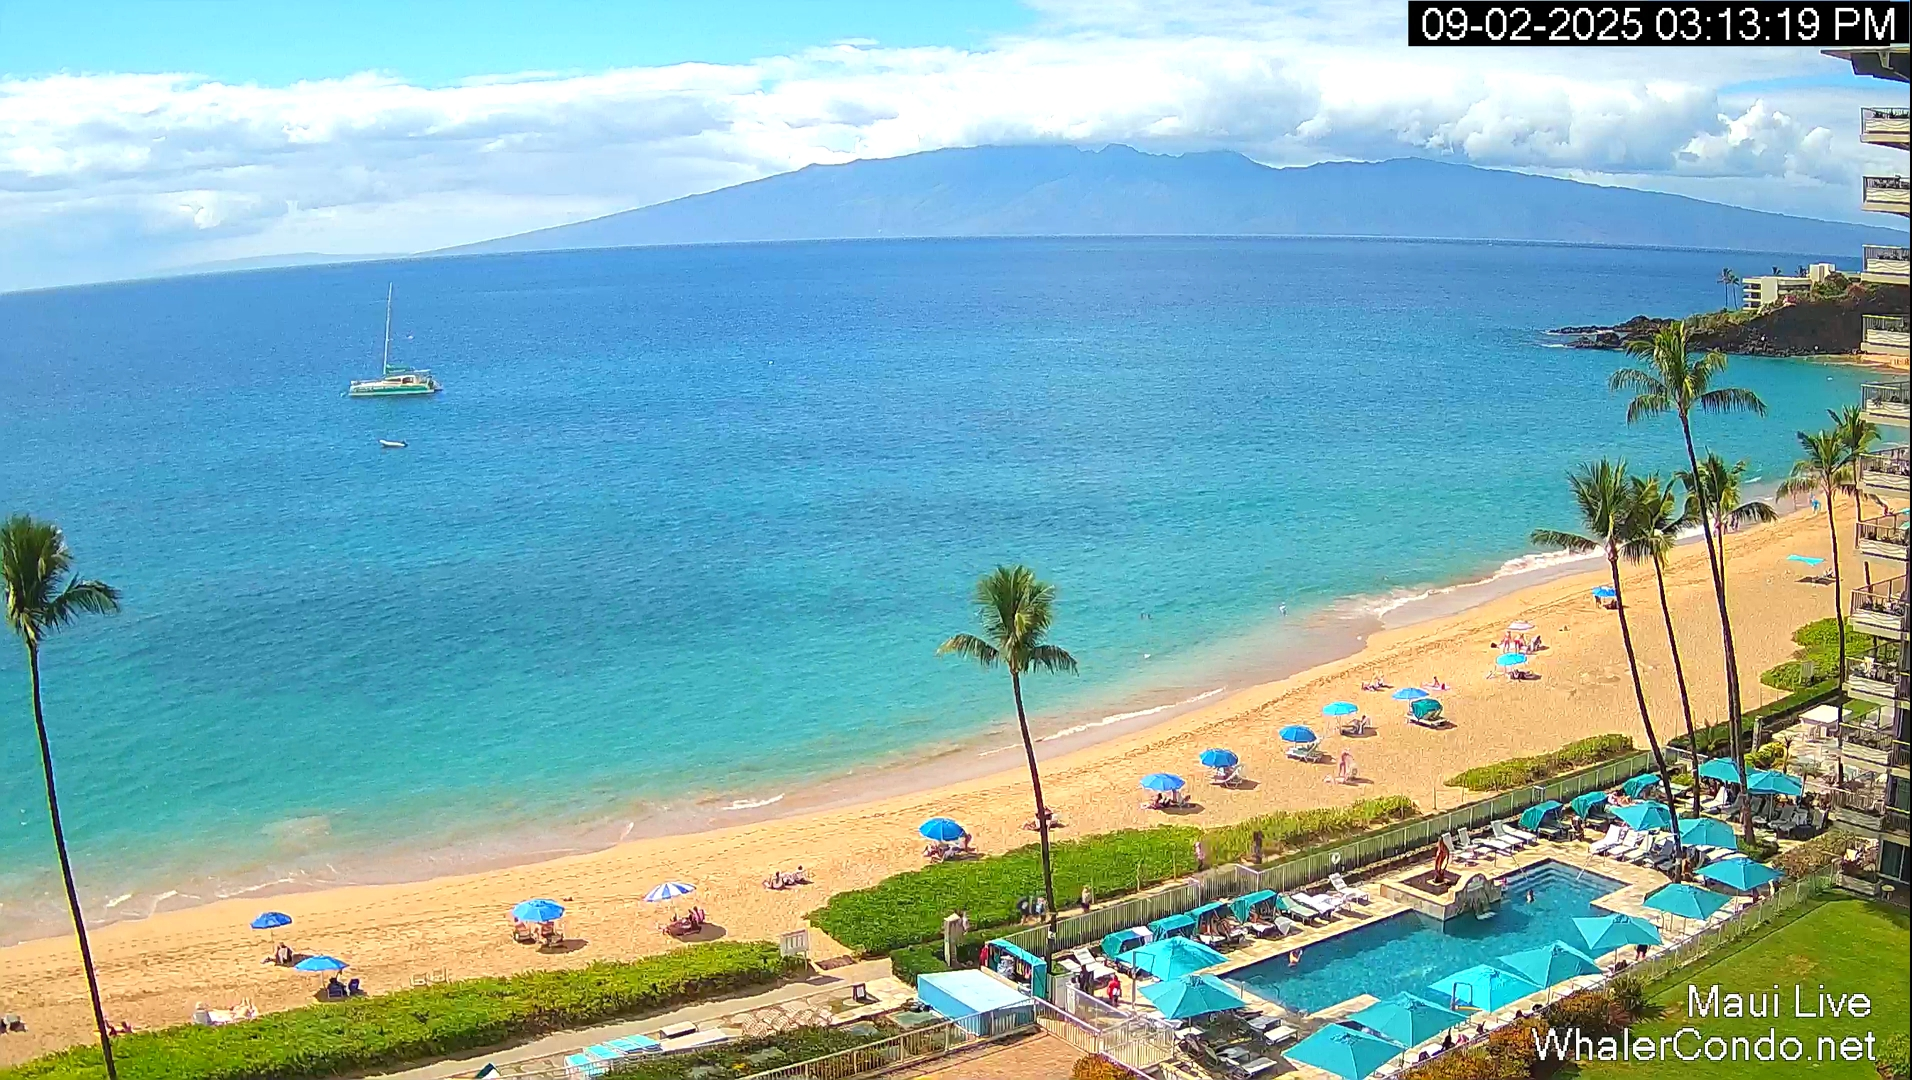boat: (348, 281, 441, 397), (349, 374, 439, 397), (379, 439, 408, 448)
person: (1107, 975, 1122, 1007), (275, 942, 293, 966), (1339, 750, 1353, 777), (1017, 897, 1030, 925), (1081, 886, 1091, 914), (1079, 964, 1089, 992), (1035, 898, 1046, 923), (1441, 1035, 1456, 1051), (1635, 944, 1648, 961), (772, 871, 784, 888), (1526, 888, 1535, 904)
